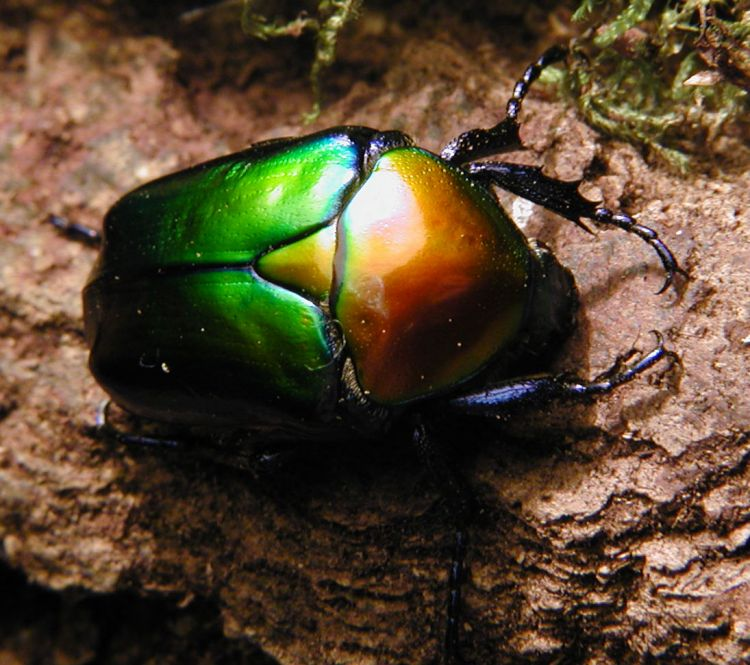Protaetia_speciosa_jousseliniw: (64, 39, 689, 452)
